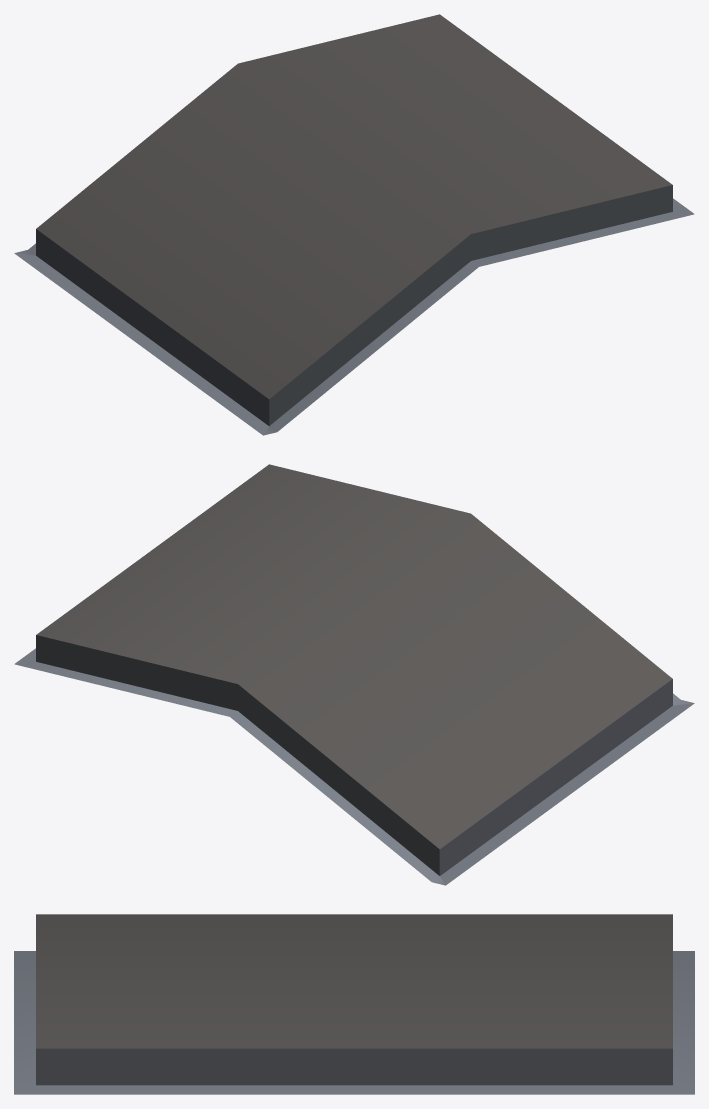
Rendered from AI_Env_Bunker_Roof_Curved.fbx.
The picture shows the model from 3 angles, top to bottom: view 1: azimuth 30°, elevation 25°; view 2: azimuth 150°, elevation 25°; view 3: azimuth 270°, elevation 25°; orthographic projection. The views are drawn at different scales.
Visible parts, largest first — view 1: AI_Env_Bunker_Roof_Curved; view 2: AI_Env_Bunker_Roof_Curved; view 3: AI_Env_Bunker_Roof_Curved.
Boxes of the visible parts, x1,y1,x2,y2 form: AI_Env_Bunker_Roof_Curved: (14, 14, 694, 435); AI_Env_Bunker_Roof_Curved: (14, 464, 694, 885); AI_Env_Bunker_Roof_Curved: (14, 914, 694, 1094).
Bounding box in the file's own units: 5 × 1.58 × 5.
